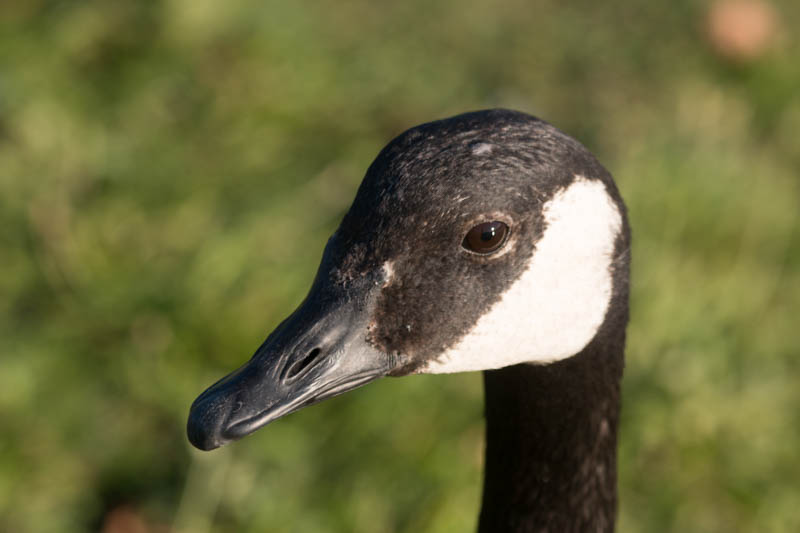goose-head: (187, 108, 632, 452)
